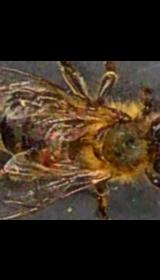varroa_mite: (26, 142, 60, 172)
